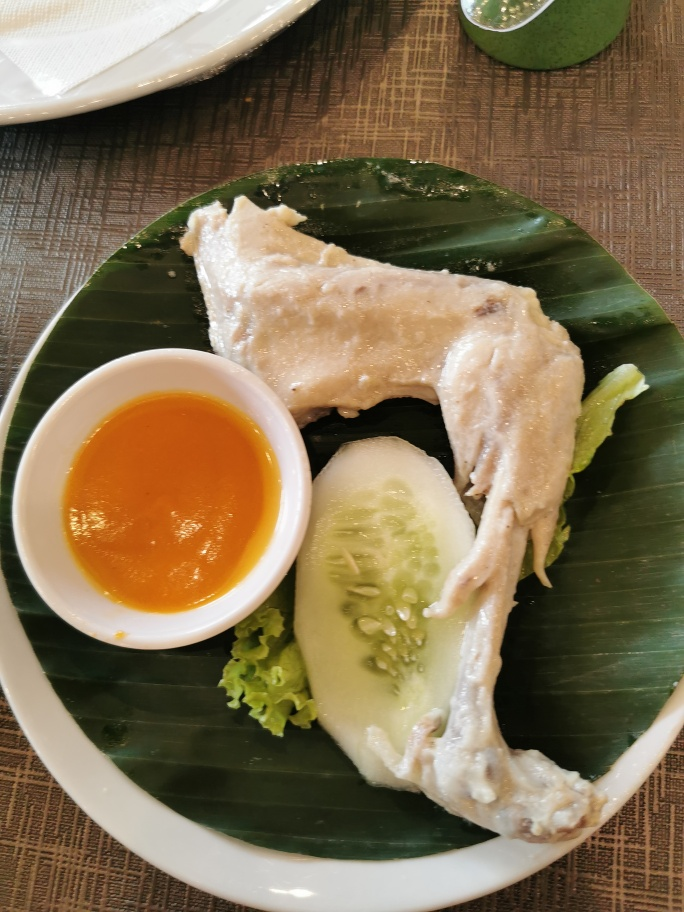ayam pop: (168, 196, 612, 851)
extra: (16, 342, 471, 790)
